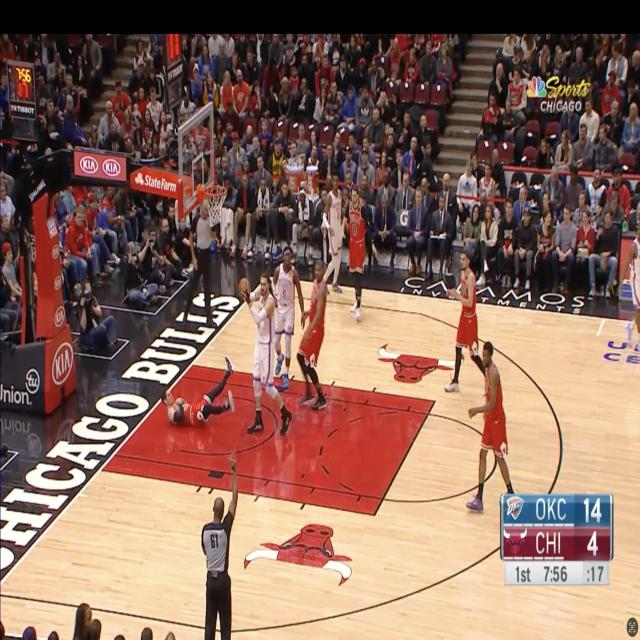foul: (148, 266, 294, 443)
no foul: (271, 246, 329, 408)
